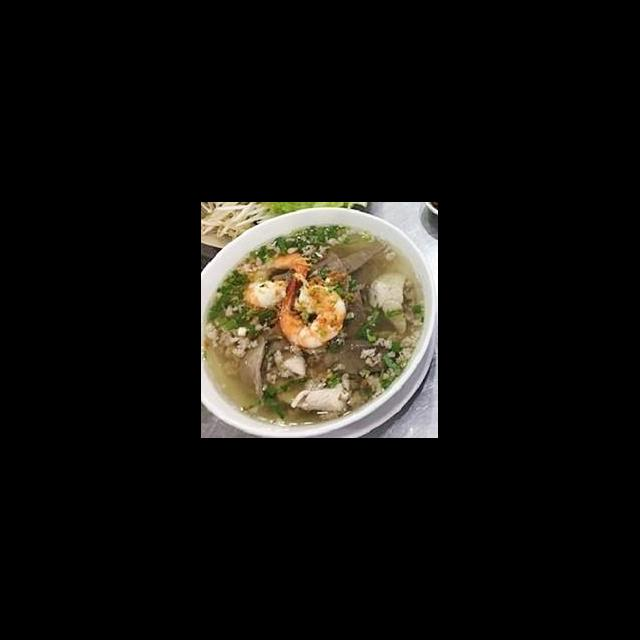gan: (261, 308, 305, 410), (299, 320, 356, 374), (236, 237, 310, 272)
thit bam: (239, 356, 313, 422), (270, 203, 339, 273), (376, 284, 418, 352), (364, 235, 404, 284)
thit heo: (222, 270, 260, 356), (301, 364, 372, 410)
tom: (287, 274, 368, 350), (325, 234, 392, 312)
